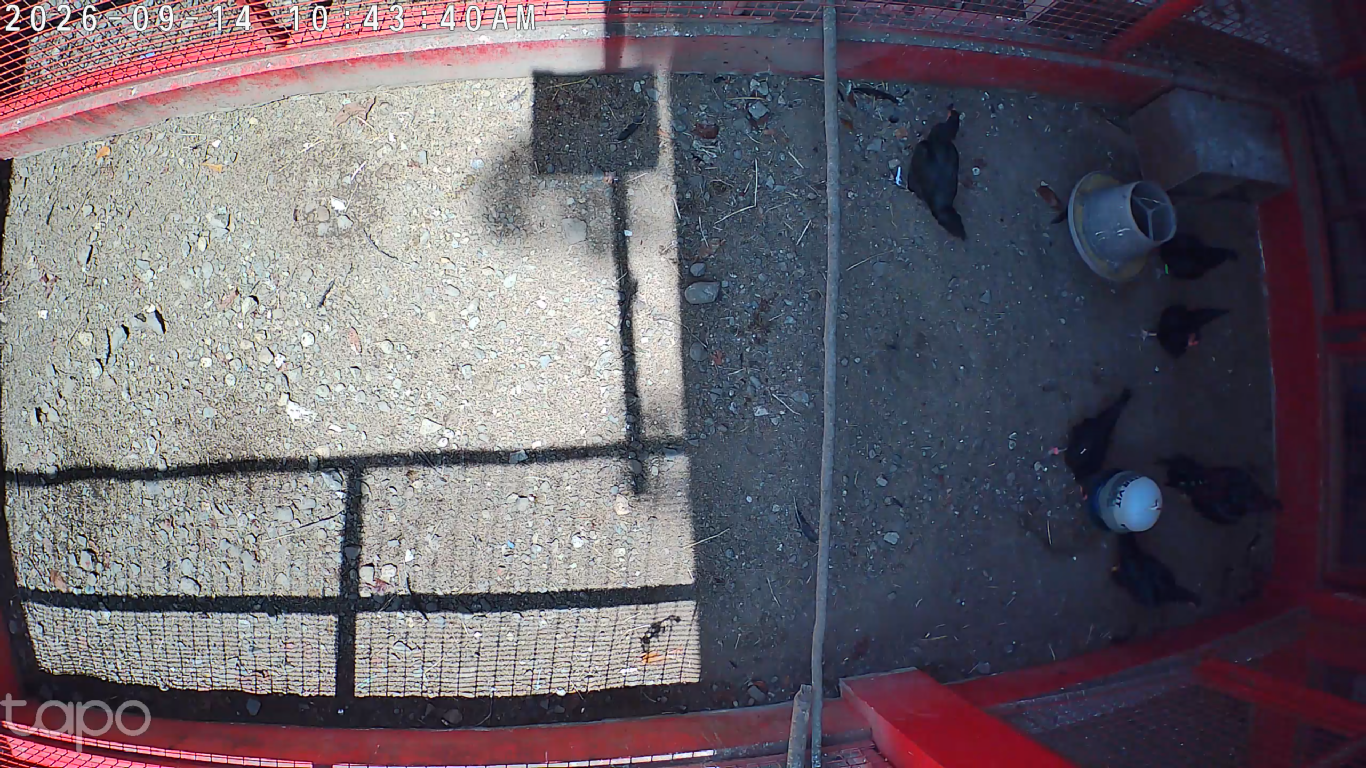Chicken: (885, 106, 971, 242), (1044, 388, 1134, 506), (1104, 527, 1205, 613), (1126, 301, 1234, 362), (1147, 231, 1246, 282)
Rooster: (1156, 449, 1292, 527)
